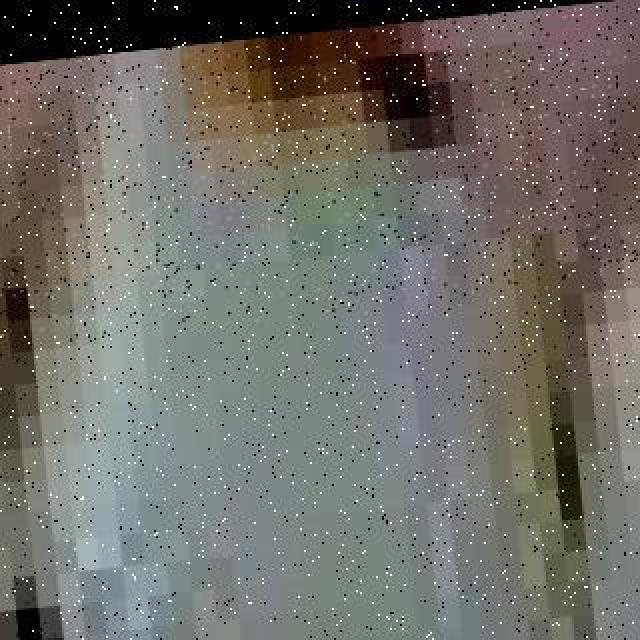cavities: (175, 26, 591, 230), (632, 68, 640, 302)
